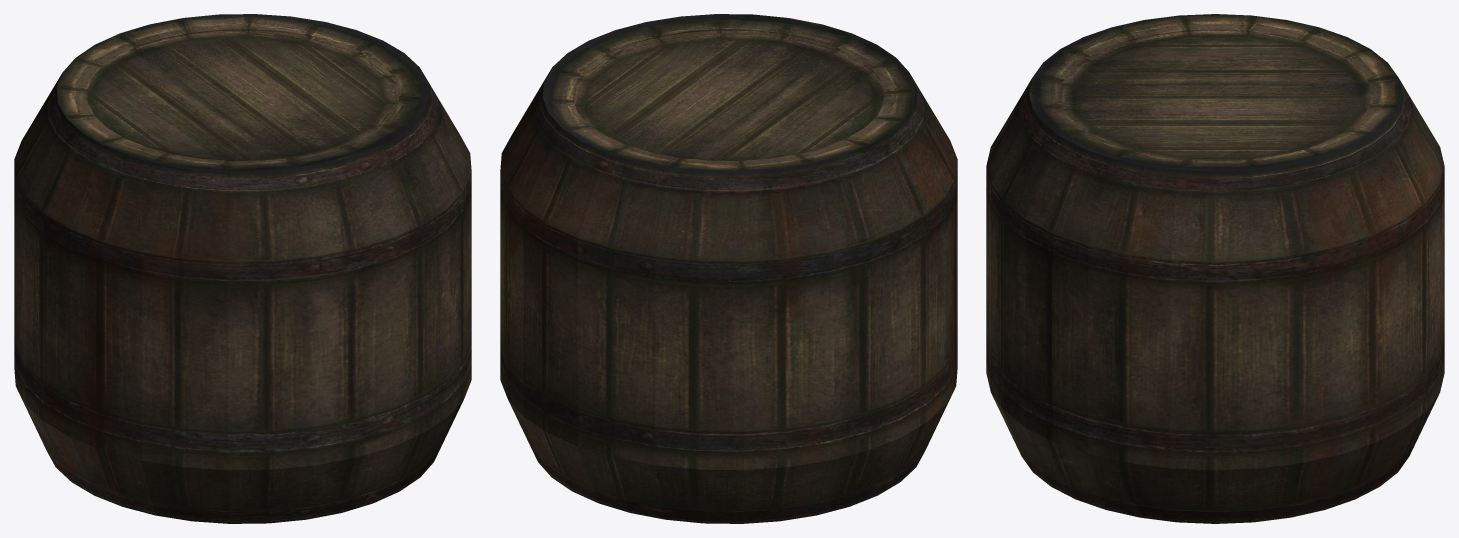
File: barril_v2.fbx
3 views of the same model, side by side, from view 1: azimuth 30°, elevation 25°; view 2: azimuth 150°, elevation 25°; view 3: azimuth 270°, elevation 25° (orthographic).
Visible parts, largest first — view 1: Barril; view 2: Barril; view 3: Barril.
Part boxes in pixels (x1,y1,x2,y2): Barril: (14,14,471,523); Barril: (500,14,957,523); Barril: (986,14,1444,523).
Bounding box in the file's own units: 146 × 123 × 146.
Materials: 1 (1 with a texture image).
